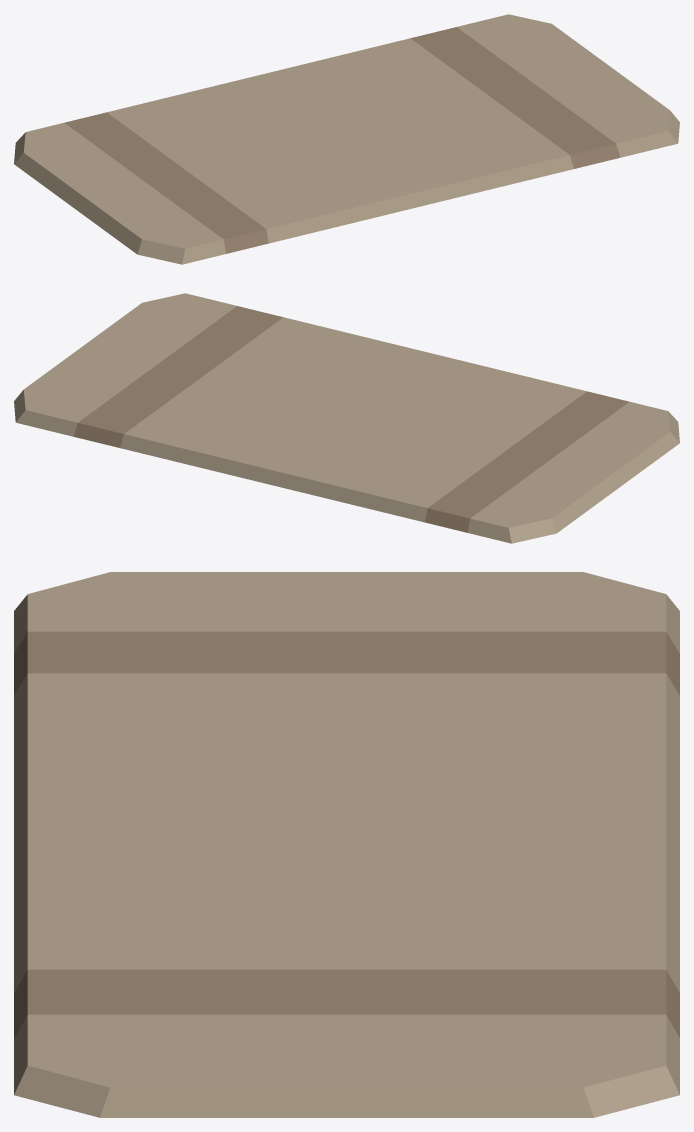
The model's file is SM_Prop_BathroomRug_02.fbx.
The picture shows the model from 3 angles, top to bottom: view 1: azimuth 30°, elevation 25°; view 2: azimuth 150°, elevation 25°; view 3: azimuth 270°, elevation 25°; orthographic projection. The views are drawn at different scales.
Parts seen in each view (by area): view 1: SM_Prop_BathroomRug_02; view 2: SM_Prop_BathroomRug_02; view 3: SM_Prop_BathroomRug_02.
Boxes of the visible parts, bbox=[...] form: SM_Prop_BathroomRug_02: bbox=[14, 14, 679, 264]; SM_Prop_BathroomRug_02: bbox=[14, 293, 679, 543]; SM_Prop_BathroomRug_02: bbox=[14, 572, 679, 1117].
Size of the model in its own units: 160 by 3.3 by 85.29.
